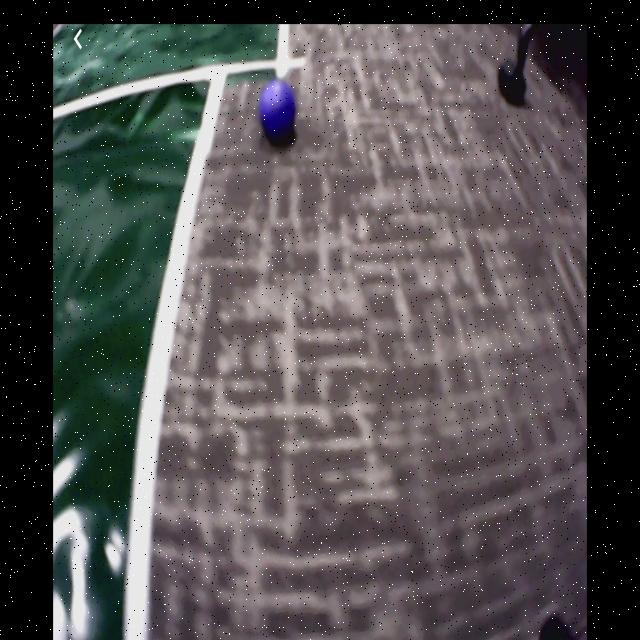ball: (260, 84, 297, 137)
